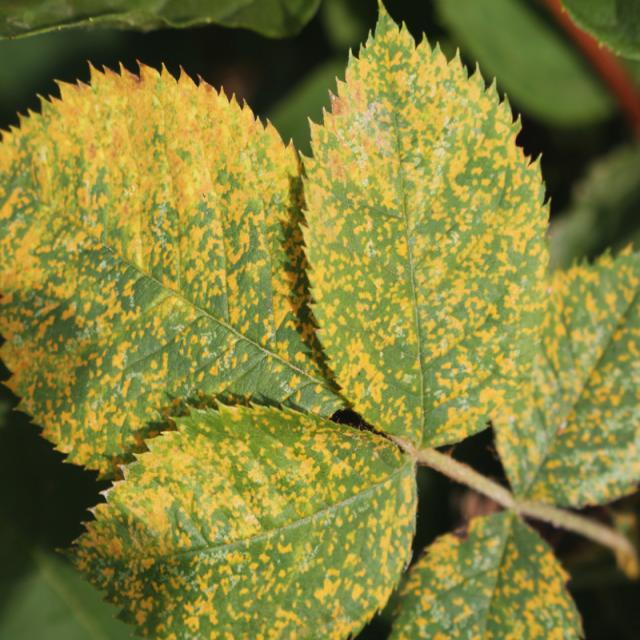leaf_rust: (0, 66, 341, 476), (305, 7, 547, 445), (72, 405, 416, 639), (494, 249, 639, 506), (389, 511, 582, 639)
